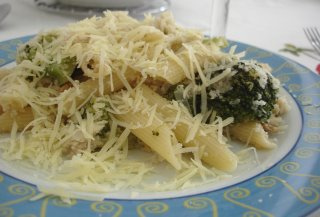broccoli: (164, 58, 279, 125), (20, 35, 86, 86)
